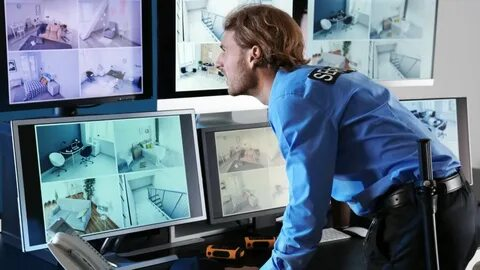awake: (214, 3, 480, 269)
